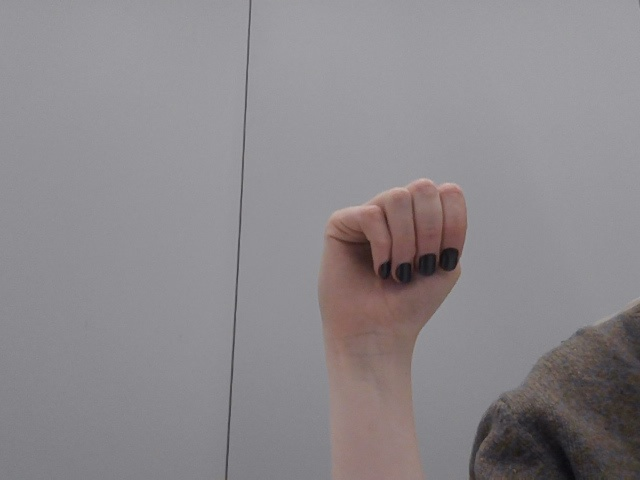down: (301, 164, 482, 394)
